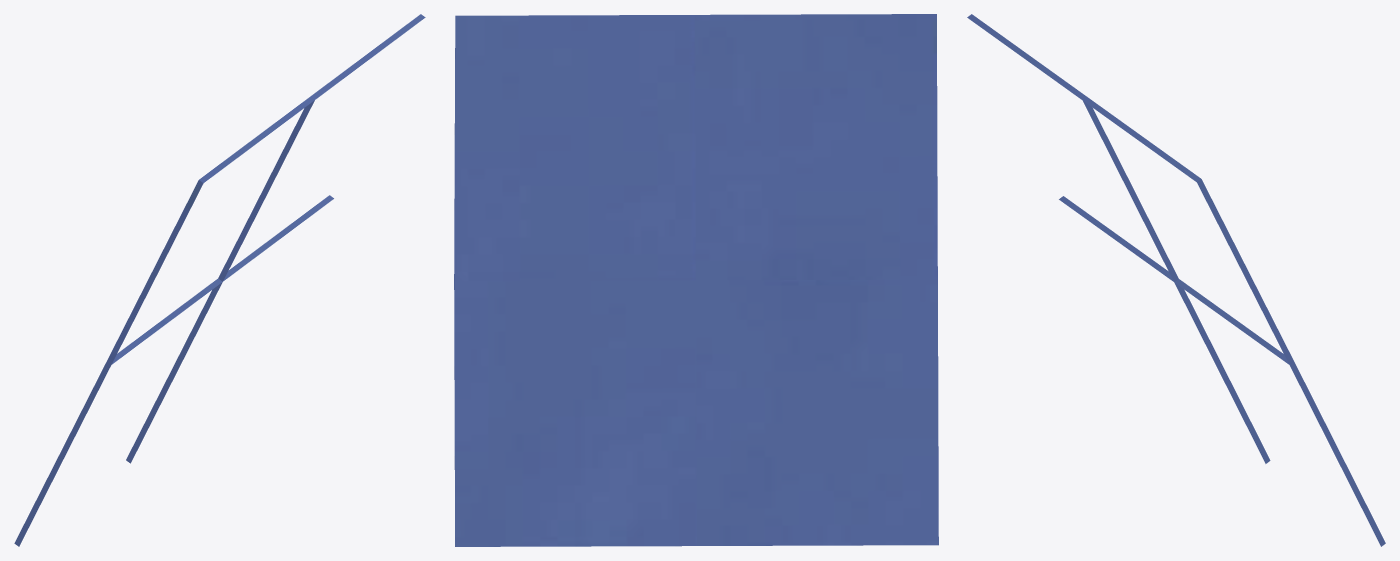
3 renders of one model, left to right at view 1: azimuth 30°, elevation 25°; view 2: azimuth 150°, elevation 25°; view 3: azimuth 270°, elevation 25°, orthographic. The views are drawn at different scales.
Size of the model in its own units: 19663 by 17837 by 16445.
Materials: 1 (1 with a texture image).
